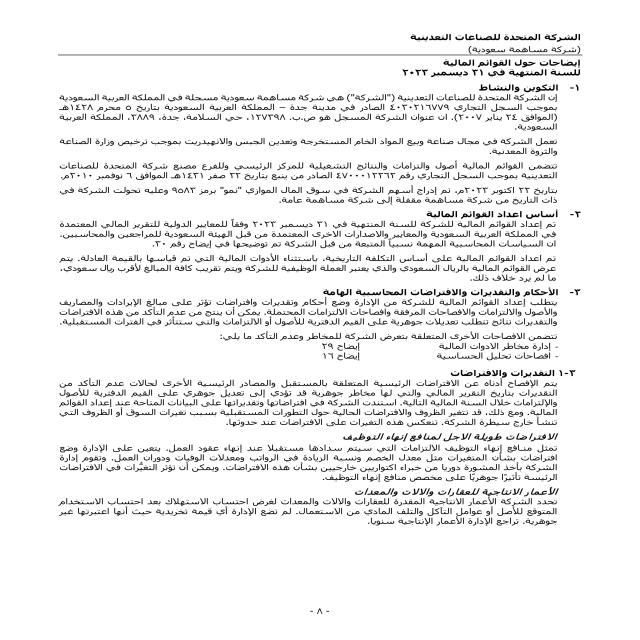notes: (431, 57, 596, 68)
text: (29, 80, 594, 570)
